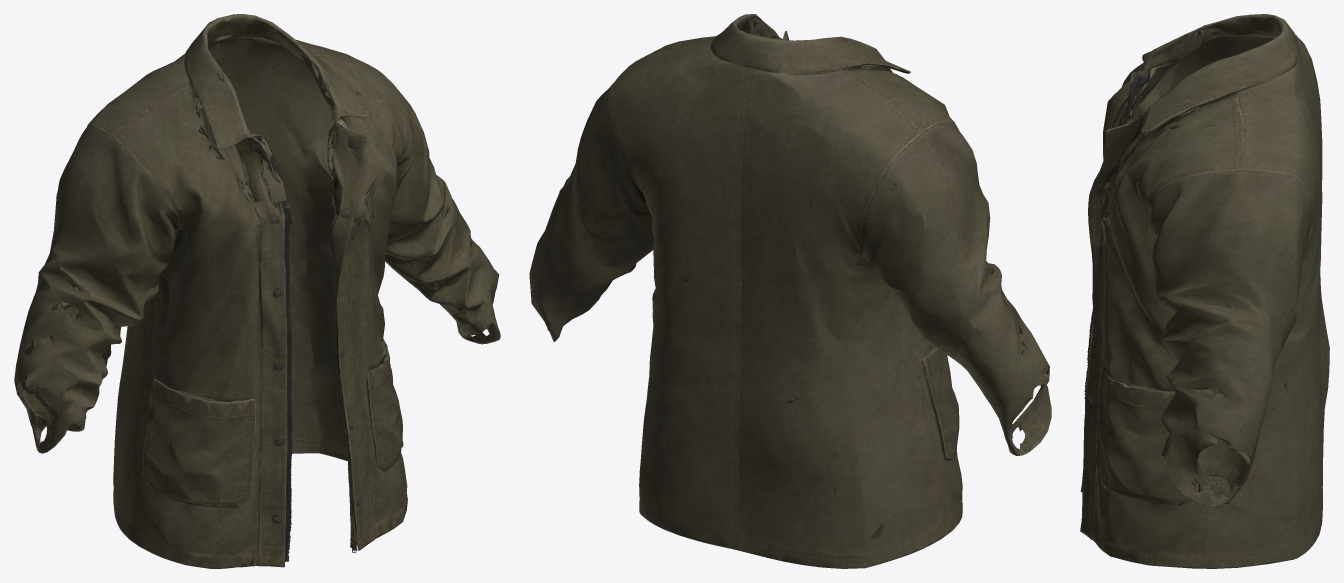
File: coat.glb
3 views of the same model, side by side, from view 1: azimuth 30°, elevation 25°; view 2: azimuth 150°, elevation 25°; view 3: azimuth 270°, elevation 25° (orthographic). The views are drawn at different scales.
Visible parts, largest first — view 1: Coat; view 2: Coat; view 3: Coat.
Boxes of the visible parts, x1,y1,x2,y2 form: Coat: (14,14,500,568); Coat: (529,14,1051,568); Coat: (1080,14,1329,568).
Bounding box in the file's own units: 1 × 0.9623 × 0.4443.
Materials: 1 (1 with a texture image).
